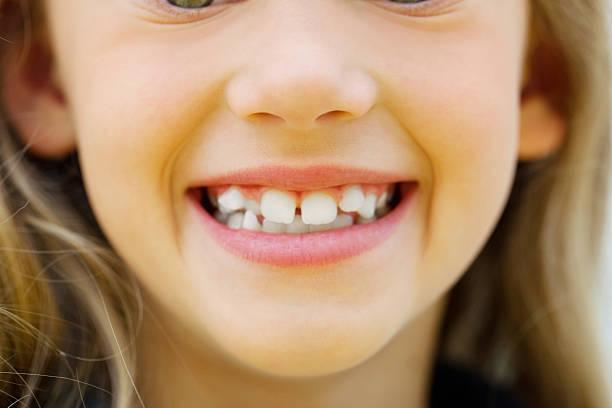Spaced: (295, 198, 303, 214)
